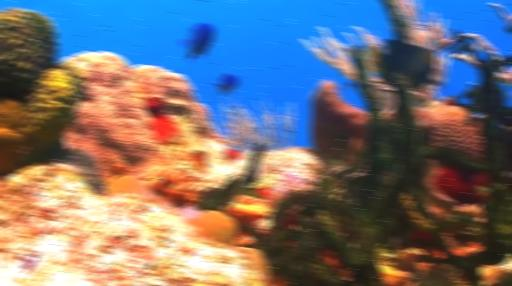Fish: (366, 40, 435, 89), (180, 23, 214, 62), (212, 73, 239, 98), (346, 82, 352, 90)
